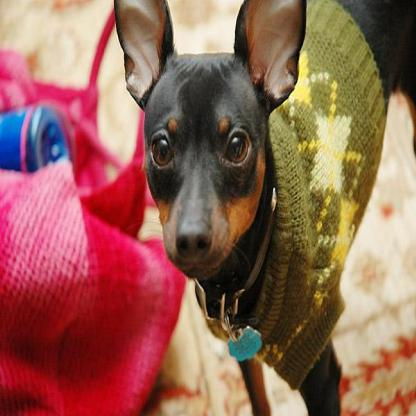miniature_pinscher: (109, 0, 414, 413)
